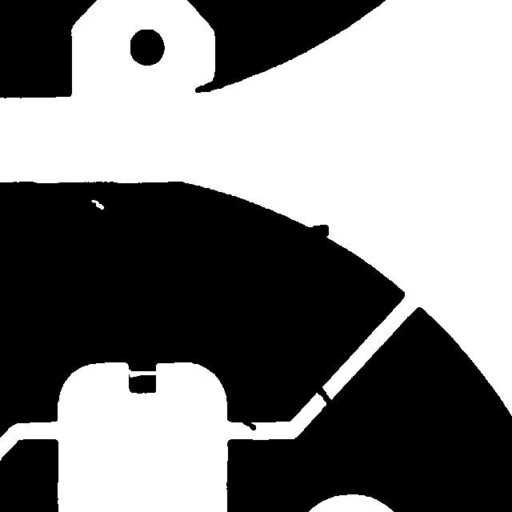open: (116, 362, 164, 385)
pin-hole: (83, 192, 111, 217)
short: (304, 374, 340, 419)
spur: (187, 66, 234, 100), (299, 217, 336, 247), (232, 410, 263, 438)
